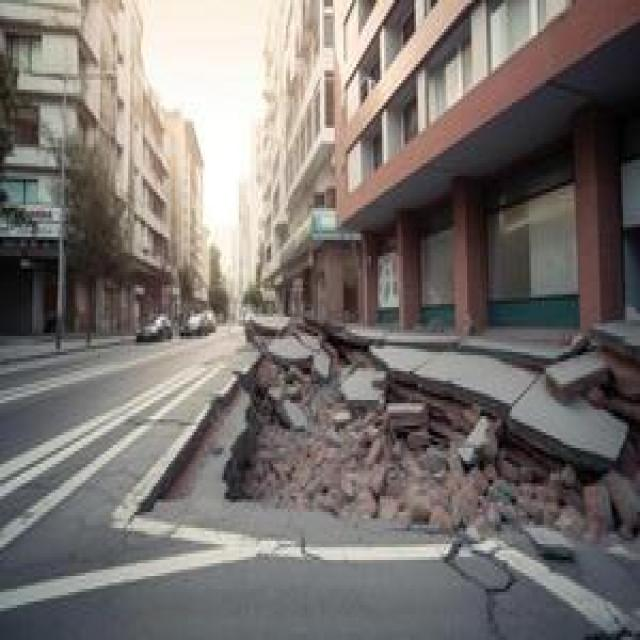road collapse: (81, 290, 640, 640)
